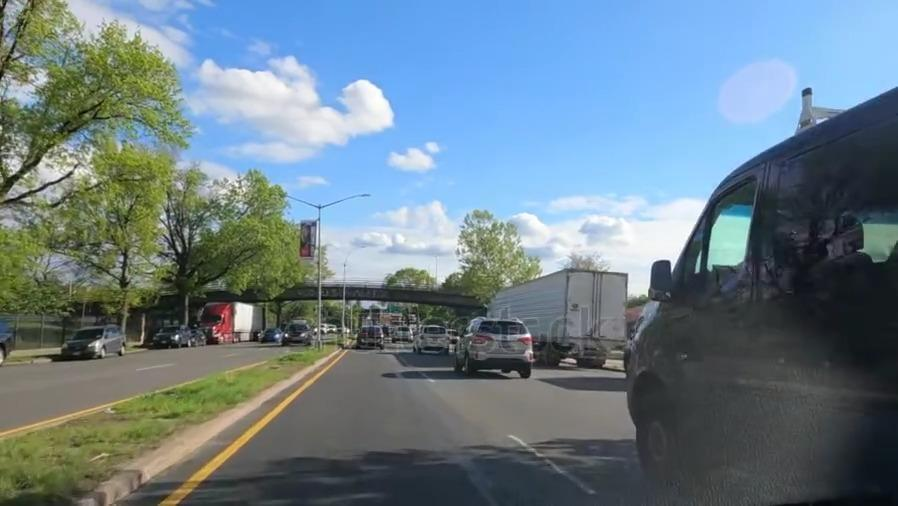car: (460, 312, 536, 379), (61, 323, 132, 364), (418, 323, 449, 355), (281, 321, 312, 345), (358, 325, 385, 351), (152, 326, 187, 346), (390, 324, 411, 341), (259, 327, 279, 343)
truck: (491, 275, 637, 358), (196, 303, 261, 339)
van: (641, 93, 897, 506)
wheel: (635, 383, 679, 485)
